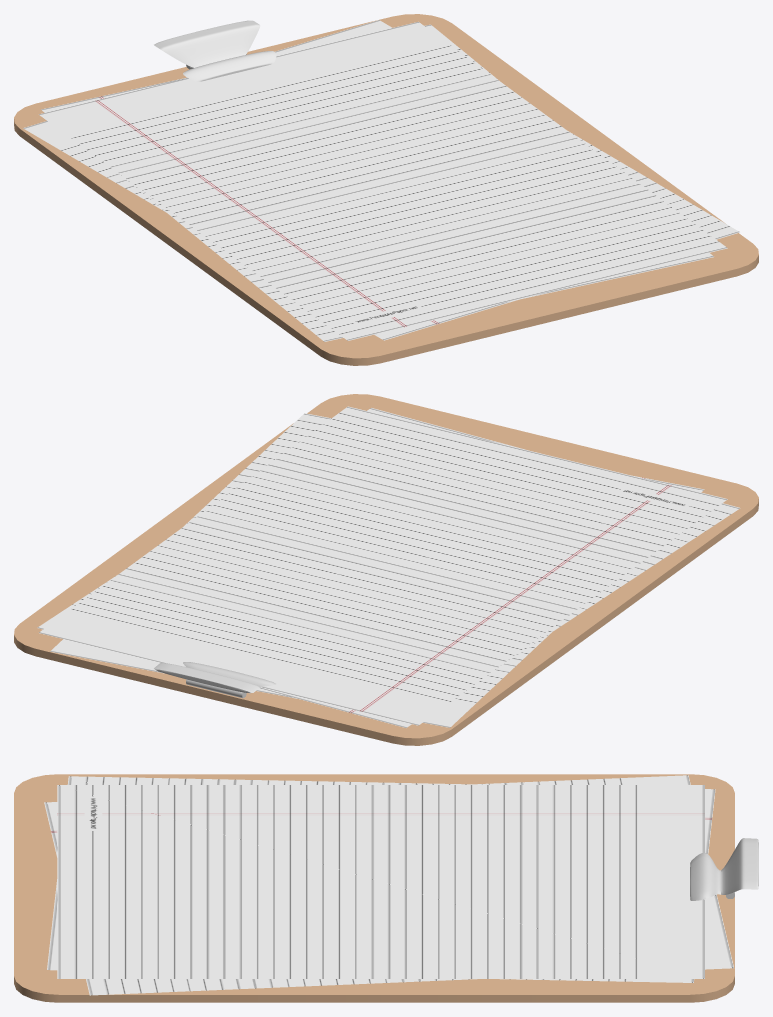
Rendered from ClipBoard.fbx.
The picture shows the model from 3 angles, top to bottom: view 1: azimuth 30°, elevation 25°; view 2: azimuth 150°, elevation 25°; view 3: azimuth 270°, elevation 25°; orthographic projection. The views are drawn at different scales.
Visible parts, largest first — view 1: Plane, Cube, Plane.002, Cube.001, Plane.001; view 2: Plane, Cube, Plane.002, Plane.001, Cube.001; view 3: Plane, Cube, Plane.002, Plane.001, Cube.001.
Part boxes in pixels (bbox=[...]): Plane: bbox=[39, 21, 727, 340]; Cube: bbox=[14, 14, 758, 365]; Plane.002: bbox=[23, 20, 739, 340]; Cube.001: bbox=[154, 20, 276, 81]; Plane.001: bbox=[41, 24, 713, 341]; Plane: bbox=[39, 406, 727, 725]; Cube: bbox=[14, 394, 758, 745]; Plane.002: bbox=[50, 413, 704, 727]; Plane.001: bbox=[37, 408, 740, 727]; Cube.001: bbox=[154, 662, 275, 693]; Plane: bbox=[57, 785, 704, 978]; Cube: bbox=[14, 774, 734, 1002]; Plane.002: bbox=[44, 775, 733, 995]; Plane.001: bbox=[47, 776, 715, 982]; Cube.001: bbox=[690, 838, 758, 900].
Bounding box in the file's own units: 211 × 13.93 × 300.
